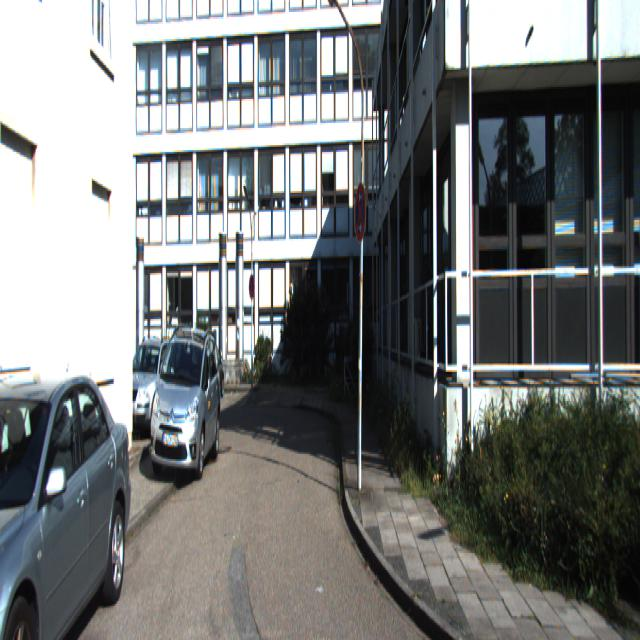Car: (0, 350, 137, 638), (145, 321, 221, 483), (111, 327, 181, 441)
